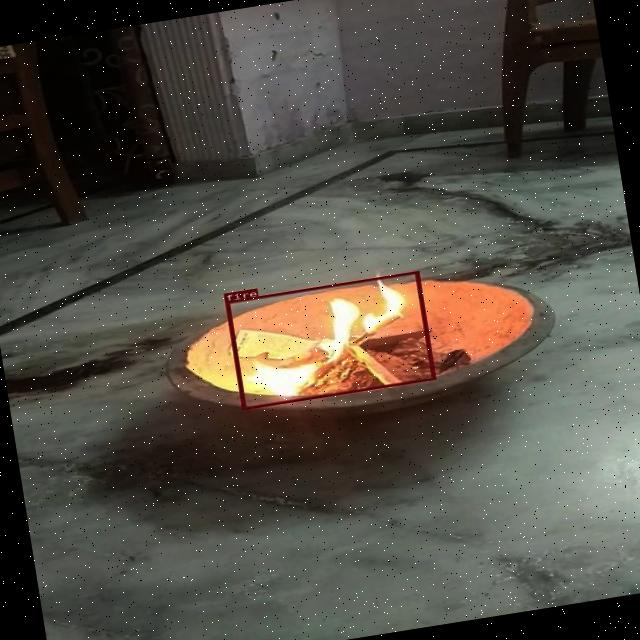fire: (224, 270, 436, 410)
